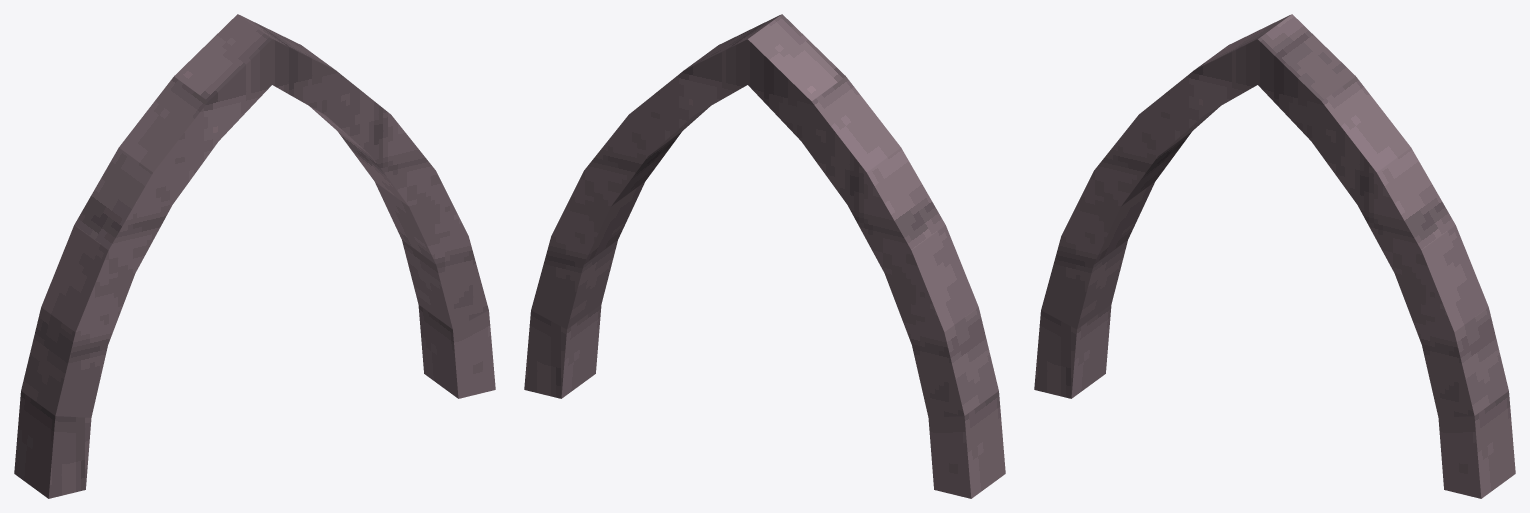
Rendered from fuehrung_boss_b.glb.
3 views of the same model, side by side, from view 1: azimuth 30°, elevation 25°; view 2: azimuth 150°, elevation 25°; view 3: azimuth 330°, elevation 25° (orthographic).
Parts seen in each view (by area): view 1: fuehrung_boss; view 2: fuehrung_boss; view 3: fuehrung_boss.
Boxes of the visible parts, left/top/right/bottom form: fuehrung_boss: left=14, top=14, right=495, bottom=498; fuehrung_boss: left=524, top=14, right=1005, bottom=498; fuehrung_boss: left=1034, top=14, right=1515, bottom=498.
Bounding box in the file's own units: 1.5 × 1.3 × 0.2.
1 material, 1 textured.
